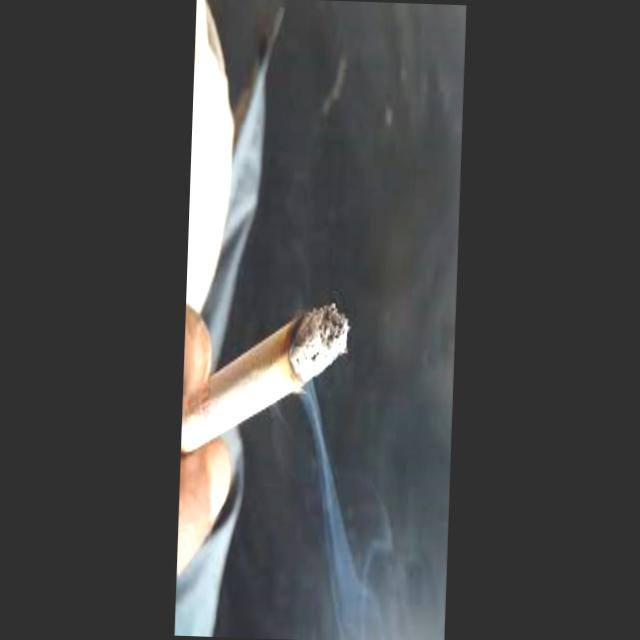cigarette: (177, 293, 388, 592)
